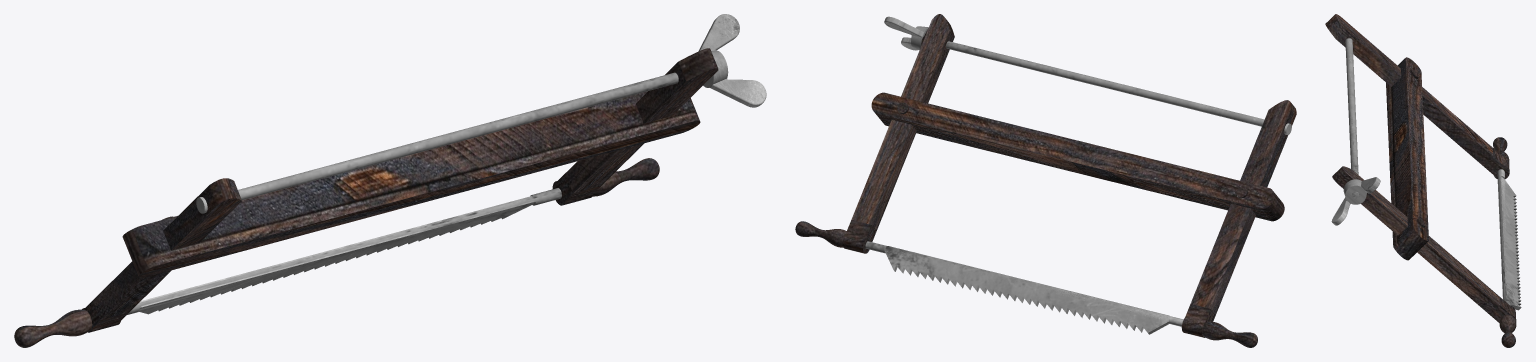
The model's file is säge.glb.
3 views of the same model, side by side, from view 1: azimuth 30°, elevation 25°; view 2: azimuth 150°, elevation 25°; view 3: azimuth 270°, elevation 25° (orthographic). The views are drawn at different scales.
Parts seen in each view (by area): view 1: Body3, Body2, Body11, Body1, Body16, Body15, Body6, Body7, Body5; view 2: Body3, Body2, Body16, Body1, Body11, Body15, Body5, Body6, Body4, Body7; view 3: Body3, Body2, Body1, Body16, Body11, Body15, Body7, Body4, Body5, Body6.
Part boxes in pixels (x1=…): Body3: x1=122, y1=91, x2=700, y2=277; Body2: x1=565, y1=14, x2=766, y2=193; Body11: x1=238, y1=72, x2=678, y2=199; Body1: x1=92, y1=178, x2=241, y2=320; Body16: x1=139, y1=196, x2=533, y2=314; Body15: x1=127, y1=188, x2=561, y2=314; Body6: x1=14, y1=309, x2=92, y2=347; Body7: x1=592, y1=158, x2=659, y2=196; Body5: x1=552, y1=174, x2=600, y2=205; Body3: x1=871, y1=92, x2=1284, y2=221; Body2: x1=851, y1=14, x2=954, y2=230; Body16: x1=885, y1=246, x2=1169, y2=334; Body1: x1=1190, y1=100, x2=1296, y2=314; Body11: x1=946, y1=41, x2=1264, y2=126; Body15: x1=865, y1=241, x2=1183, y2=326; Body5: x1=842, y1=220, x2=876, y2=253; Body6: x1=1202, y1=321, x2=1257, y2=347; Body4: x1=1181, y1=304, x2=1215, y2=337; Body7: x1=795, y1=221, x2=846, y2=247; Body3: x1=1386, y1=57, x2=1428, y2=260; Body2: x1=1331, y1=166, x2=1499, y2=314; Body1: x1=1325, y1=14, x2=1493, y2=165; Body16: x1=1497, y1=176, x2=1521, y2=310; Body11: x1=1345, y1=38, x2=1359, y2=198; Body15: x1=1497, y1=169, x2=1510, y2=305; Body7: x1=1499, y1=314, x2=1516, y2=347; Body4: x1=1483, y1=148, x2=1509, y2=179; Body5: x1=1490, y1=297, x2=1516, y2=322; Body6: x1=1493, y1=137, x2=1509, y2=162.
Bounding box in the file's own units: 0.1795 × 0.0689 × 0.0714.
1 material, 1 textured.
